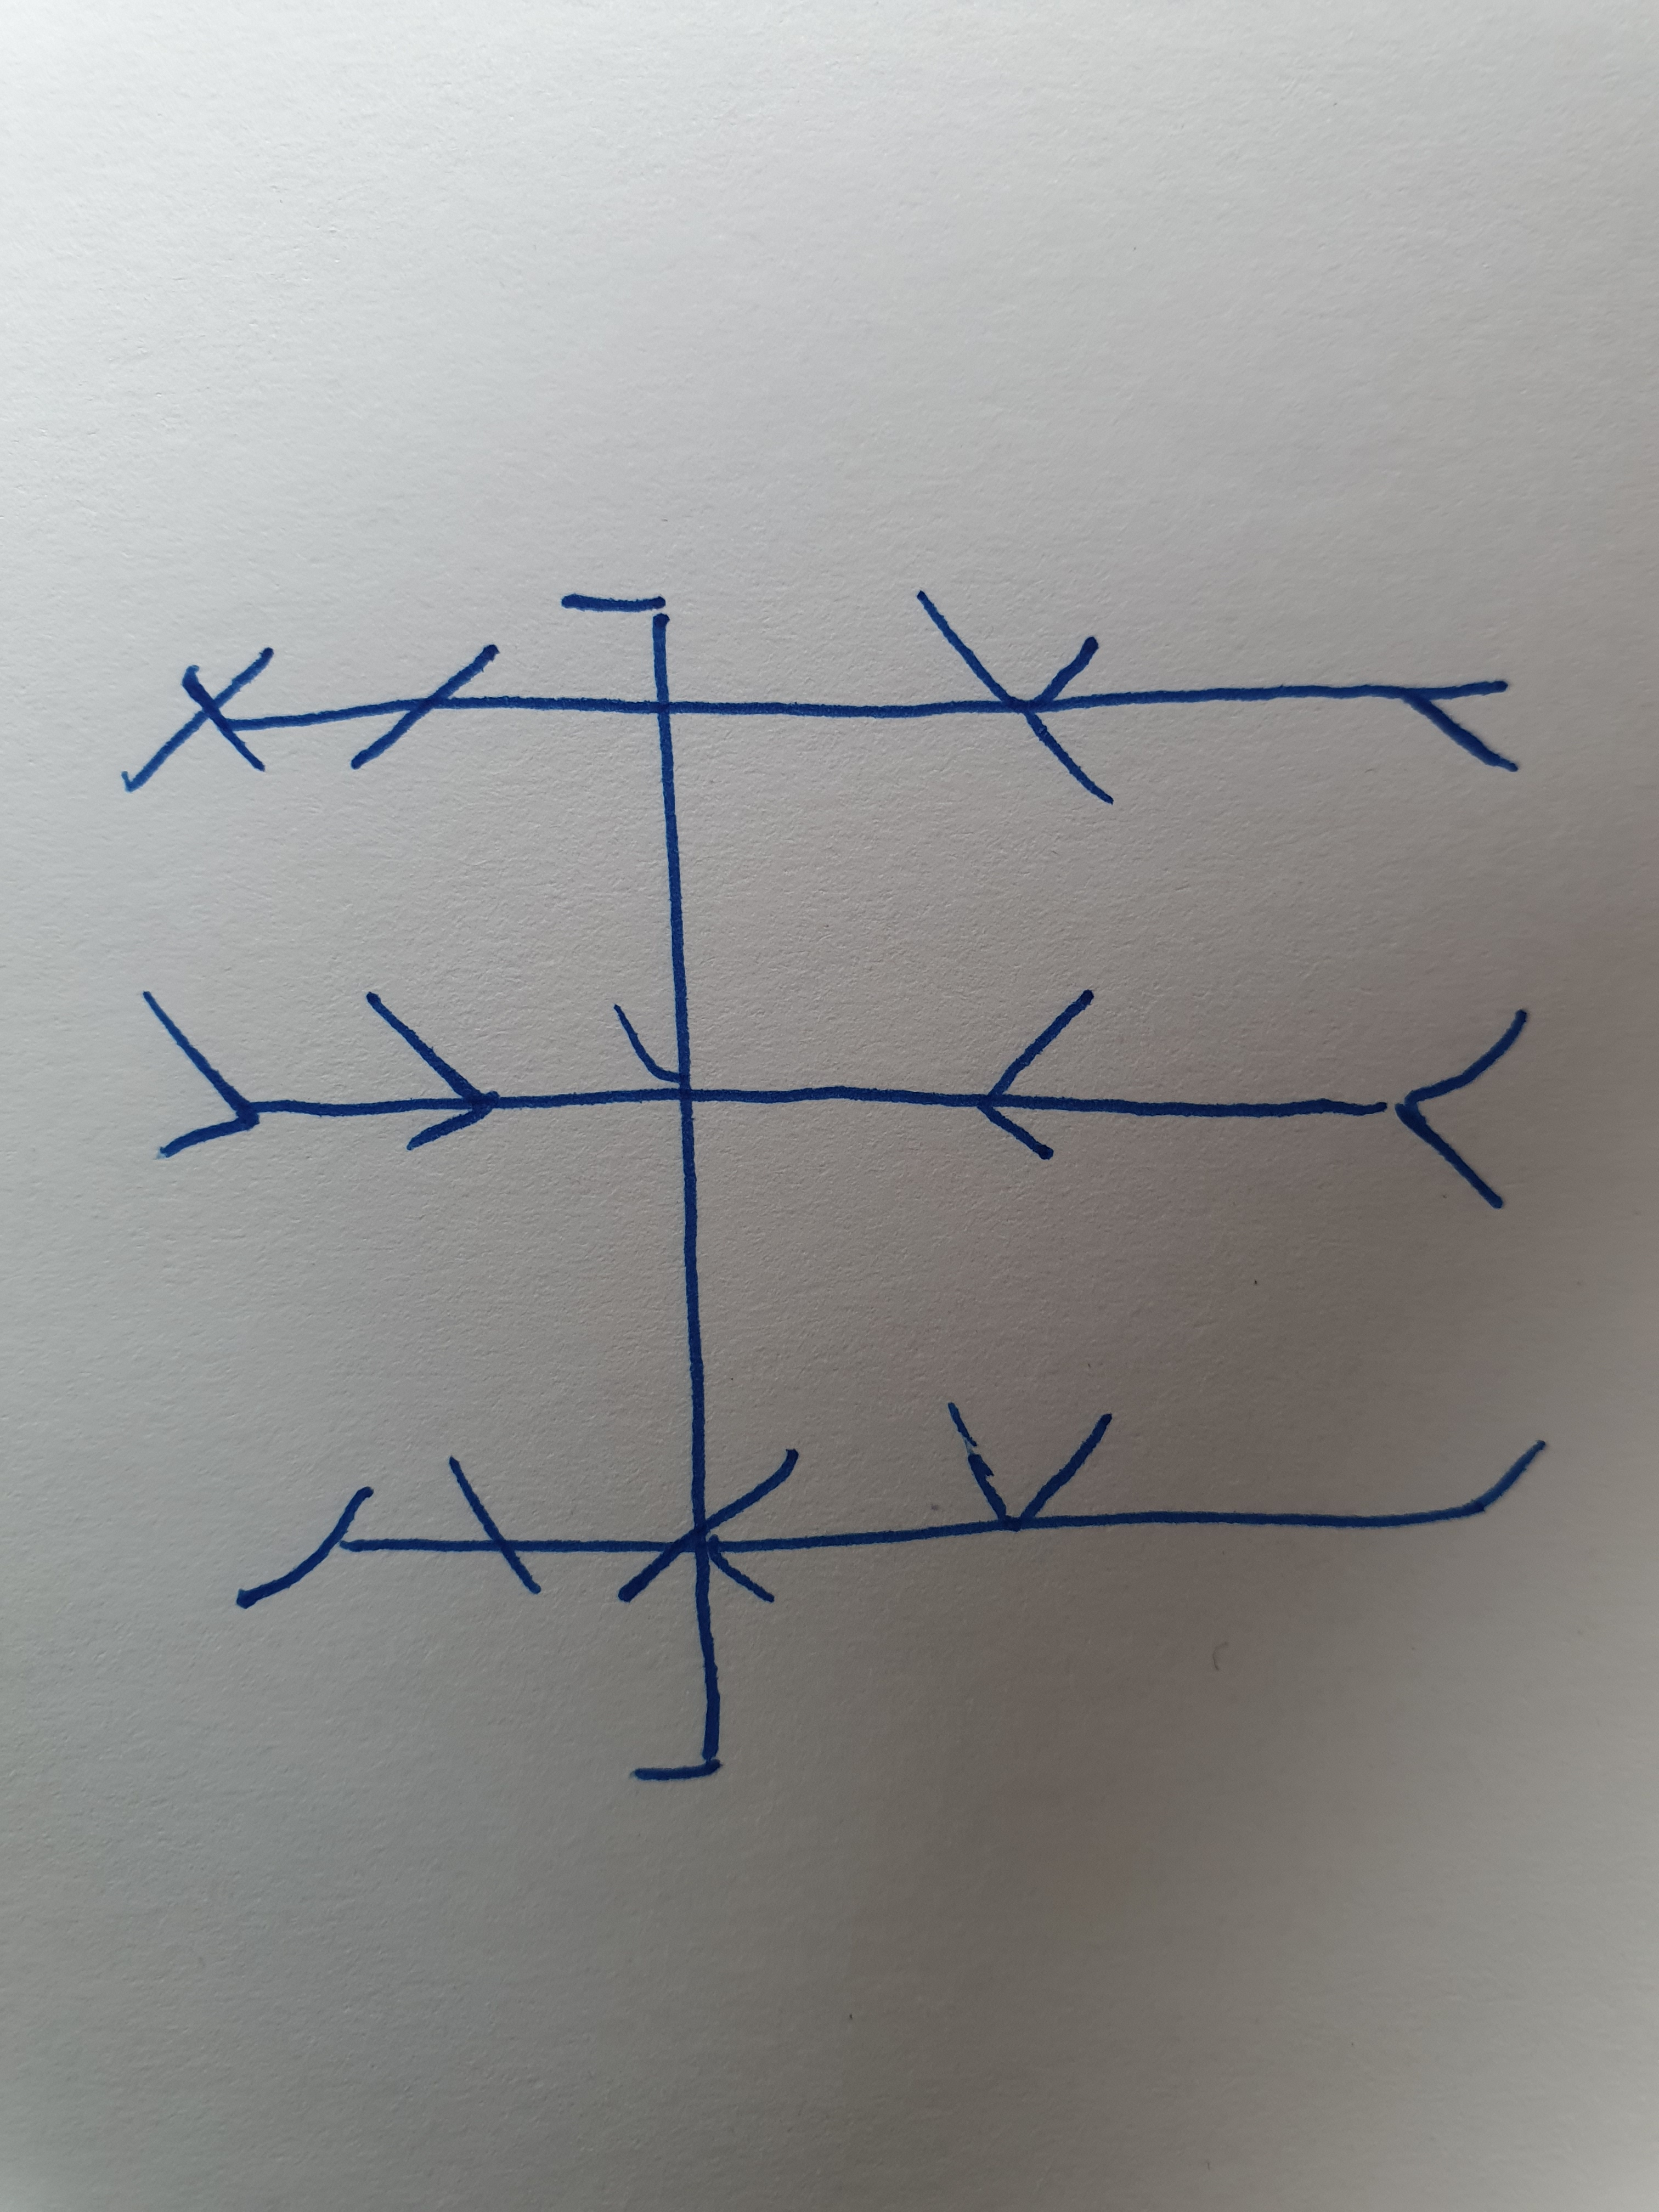Bar: (143, 989, 1530, 1211), (119, 590, 1518, 803), (235, 1400, 1546, 1611)
Barcode: (120, 590, 1544, 1789)
End: (563, 589, 671, 693)
Start: (631, 1602, 723, 1789)
